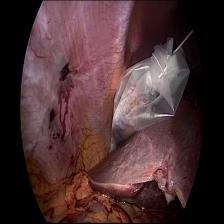Specimen Bag: (103, 32, 192, 159)
